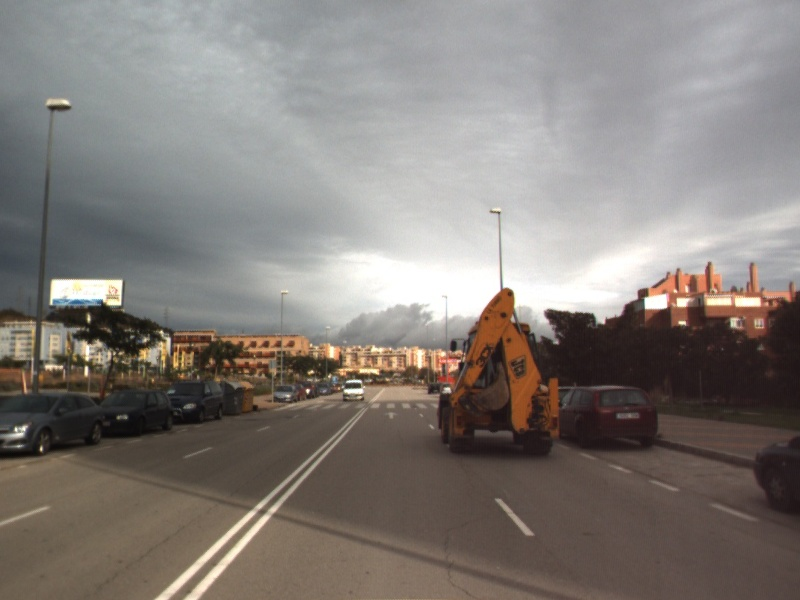STRAIGHT: (382, 410, 400, 421)
